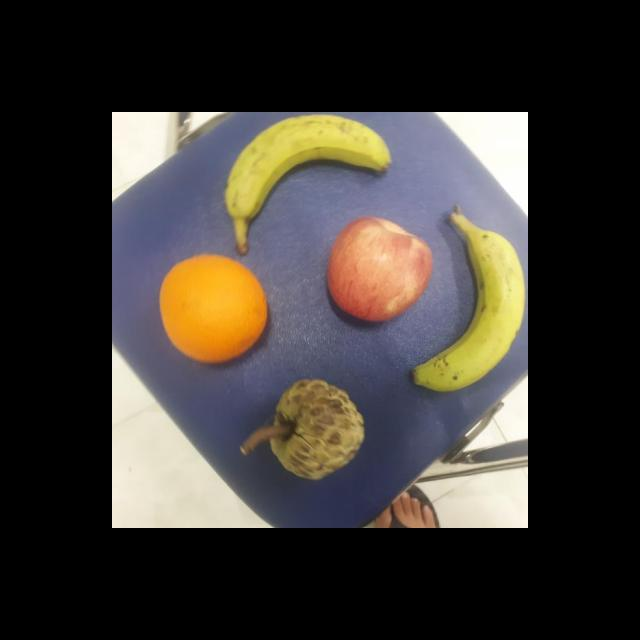Sakya fruit: (268, 378, 366, 482)
apple: (324, 214, 438, 328)
banana: (411, 209, 528, 406), (221, 113, 393, 220)
orange: (156, 251, 273, 368)
